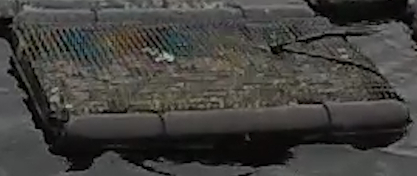bag: (6, 4, 410, 152)
